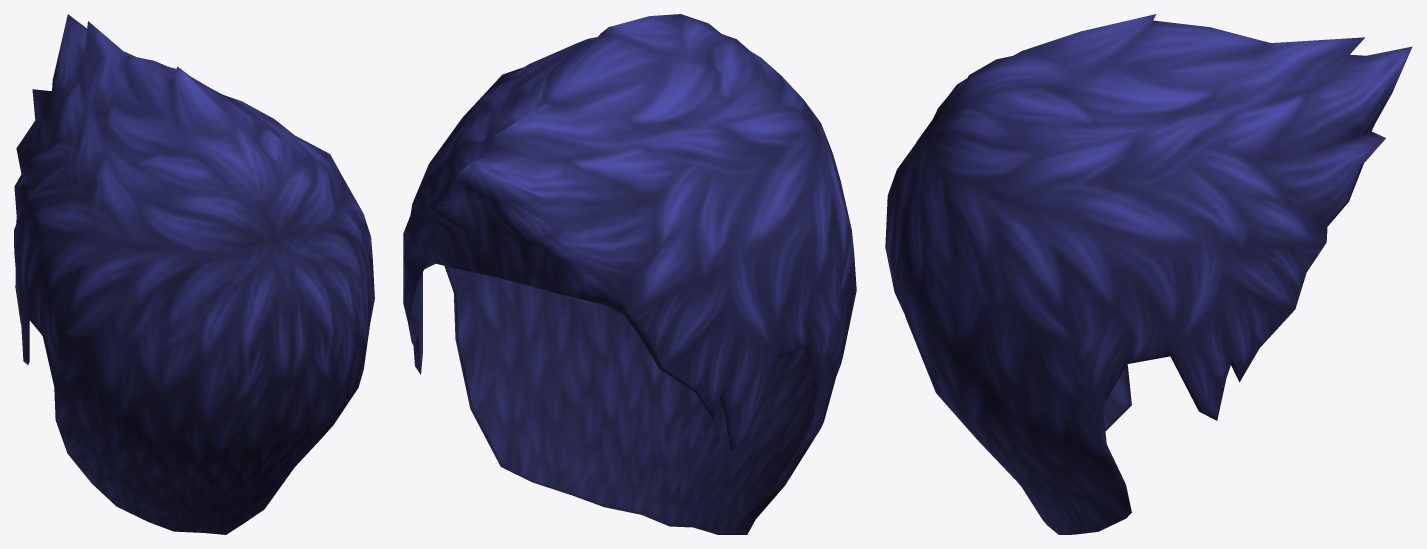
File: Hair_Male_005_textured_blue.glb
The picture shows the model from 3 angles, left to right: view 1: azimuth 30°, elevation 25°; view 2: azimuth 150°, elevation 25°; view 3: azimuth 270°, elevation 25°; orthographic projection. The views are drawn at different scales.
Parts seen in each view (by area): view 1: Hair_Male_005; view 2: Hair_Male_005; view 3: Hair_Male_005.
Part boxes in pixels (<box>): Hair_Male_005: <box>14,14,374,534</box>; Hair_Male_005: <box>403,14,856,534</box>; Hair_Male_005: <box>885,14,1412,534</box>.
Size of the model in its own units: 0.1845 by 0.2501 by 0.2361.
1 material, 1 textured.
